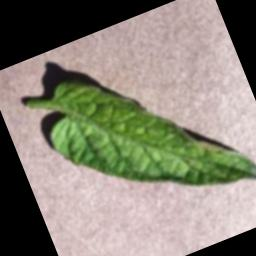Leaf_Mold: (178, 114, 227, 165)
